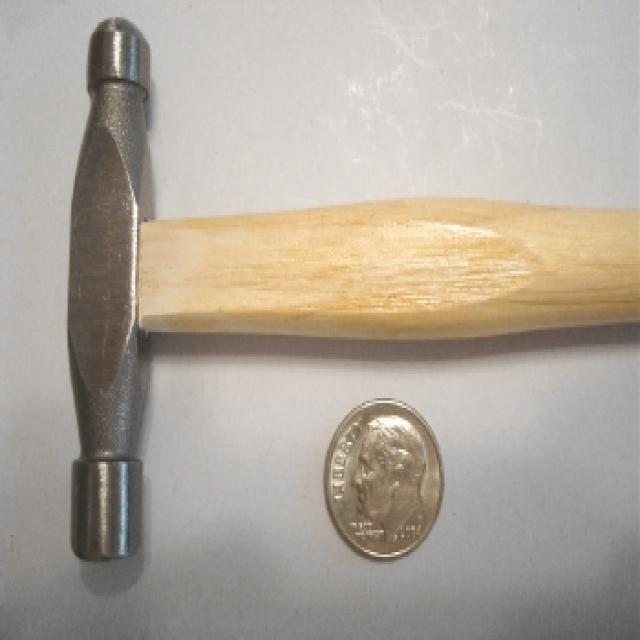hammer: (61, 11, 640, 574)
